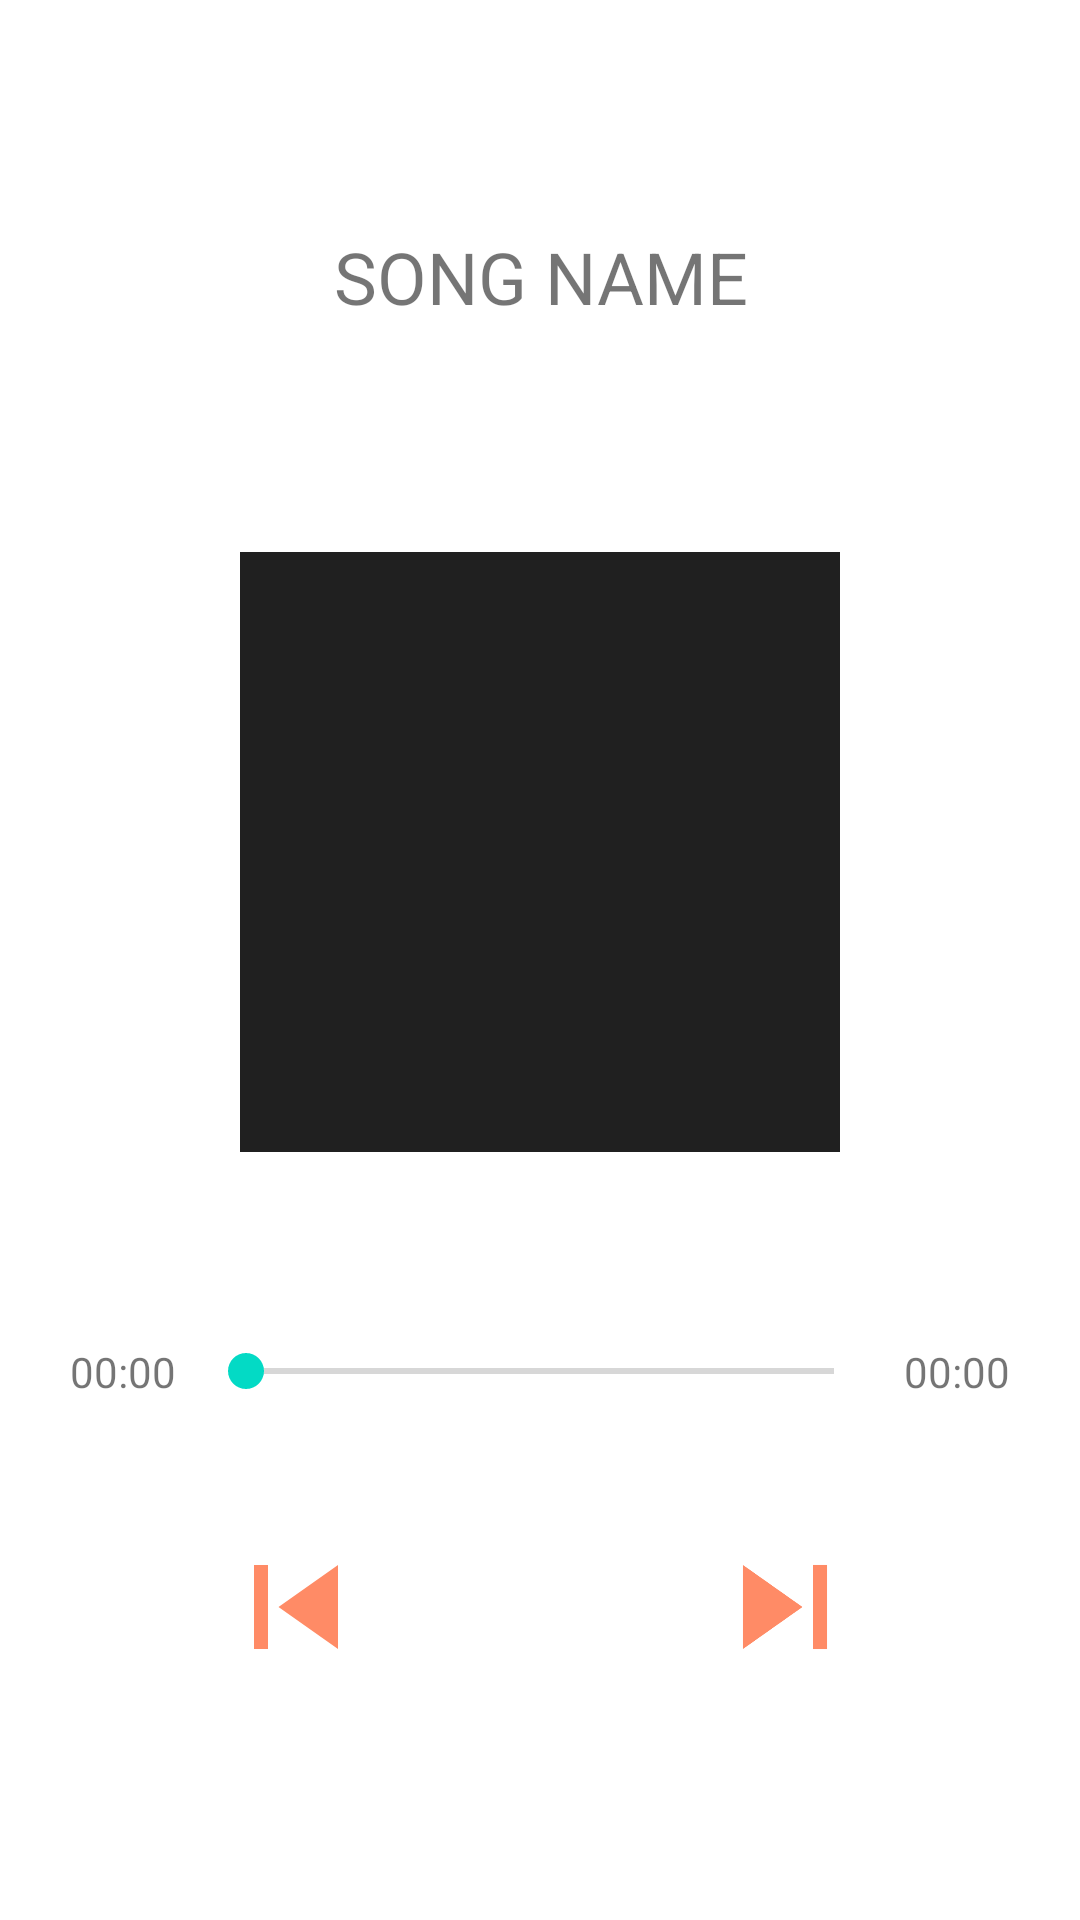

Named icons in this screenshot (1080 x 1920) and their bounding boxes, (x1=x1, y1=y1, x2=x2, y2=y2):
skip: (x1=743, y1=1565, x2=827, y2=1649)
skip previous: (x1=254, y1=1565, x2=338, y2=1649)
